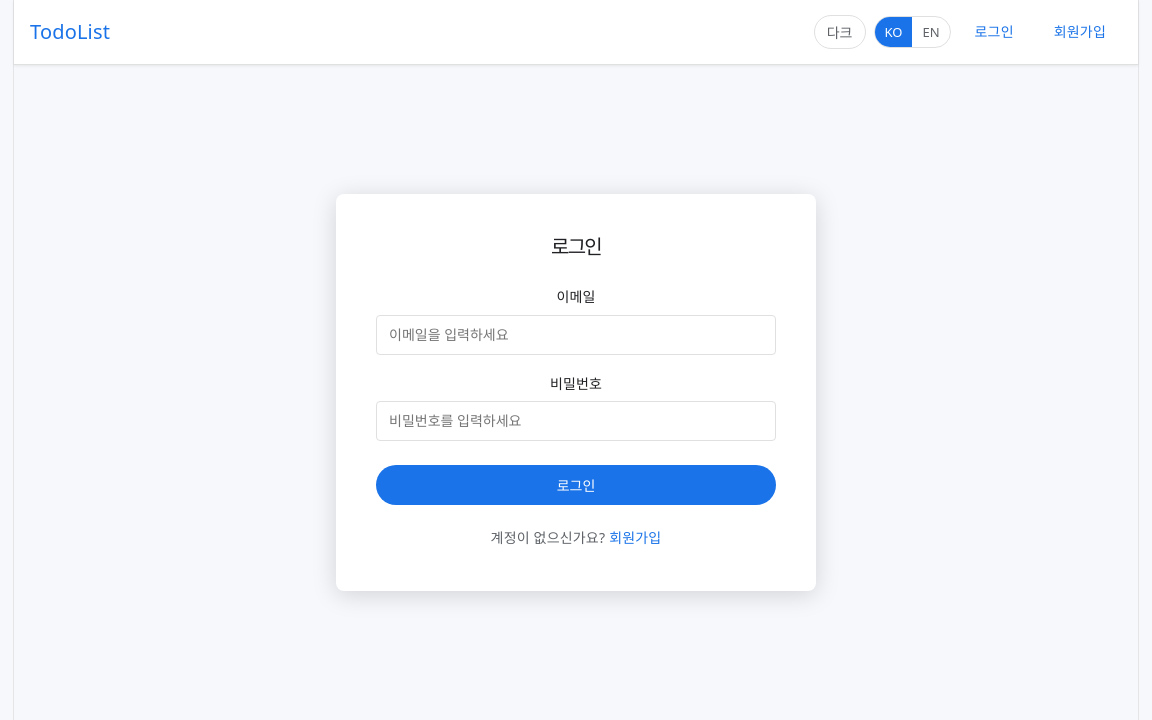
Scenario: LoginPage › 로그인 실패 시 에러 메시지를 표시한다
Type "wrong@example.com" into the field labelled "이메일".
click(576, 334); type("wrong@example.com")  # box x1=376 y1=314 x2=776 y2=354
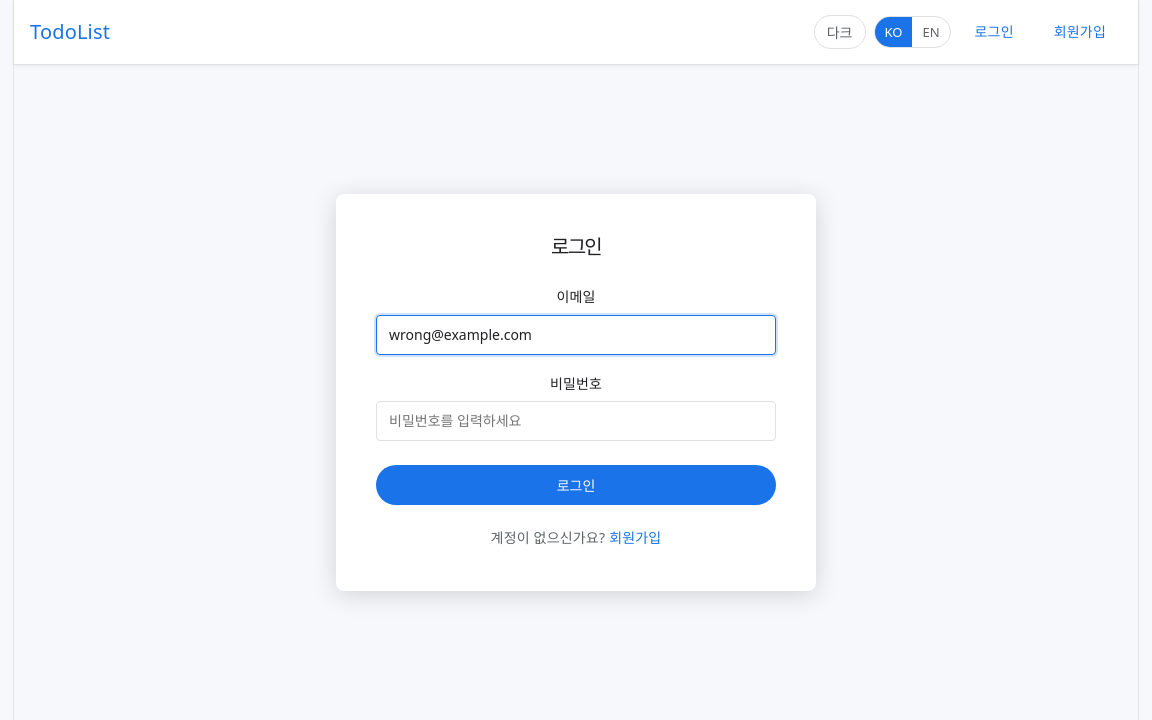
Type "wrong" into the password field labelled "비밀번호".
click(576, 421); type("wrong")  # box x1=376 y1=401 x2=776 y2=441
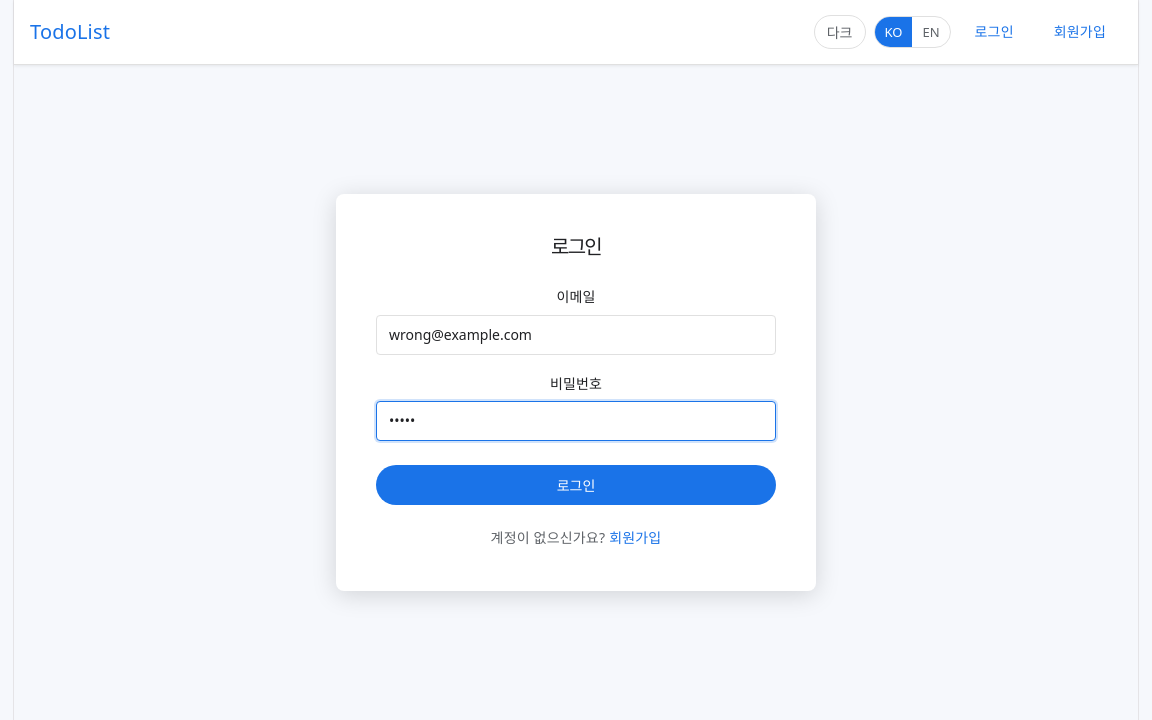
Click the button "로그인".
click(576, 485)  # box x1=376 y1=465 x2=776 y2=505
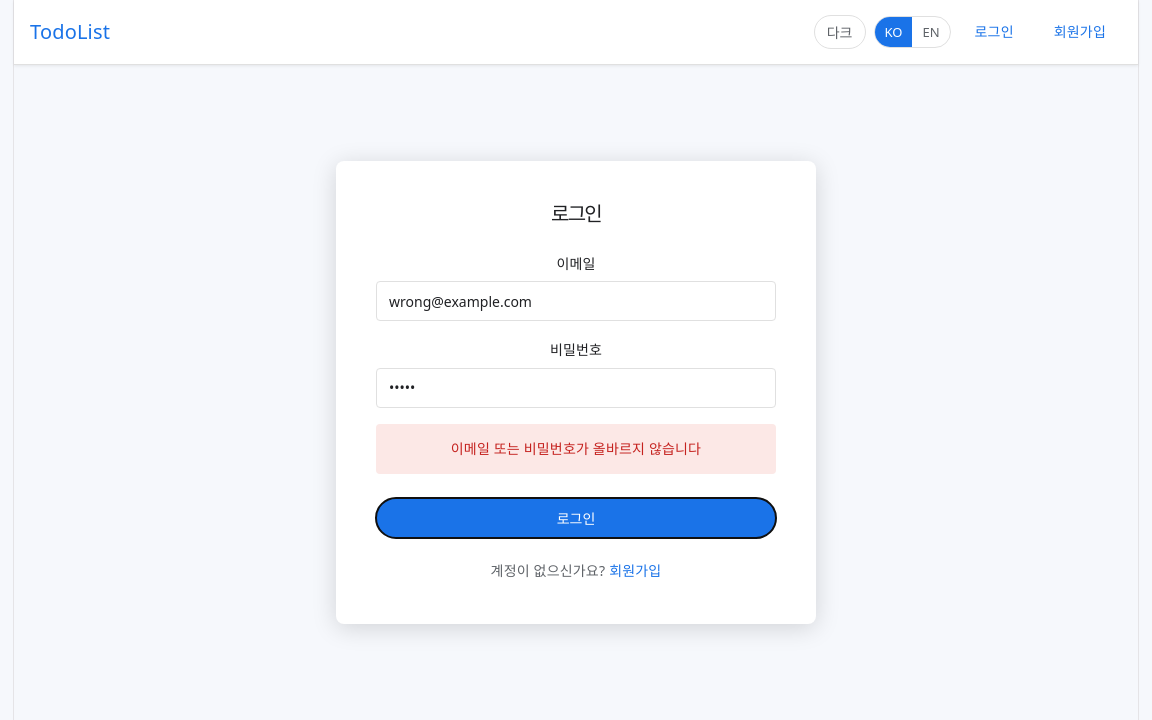
Expected: the message reads "이메일 또는 비밀번호가 올바르지 않습니다", x1=451 y1=438 x2=701 y2=458
